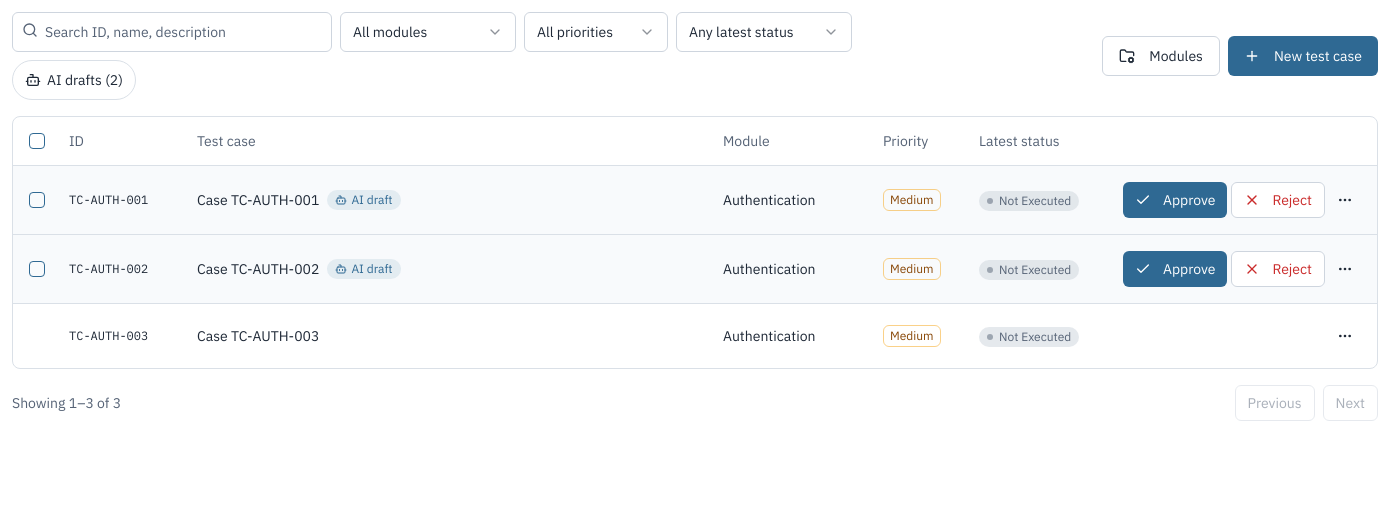
Scenario: CasesView — AI drafts › keeps the selection status region announcement-only, with no buttons inside it
This screenshot has width=1390, height=508.
Click the checkbox named "Select TC-AUTH-001".
click(37, 200)  # box [29,192,45,208]
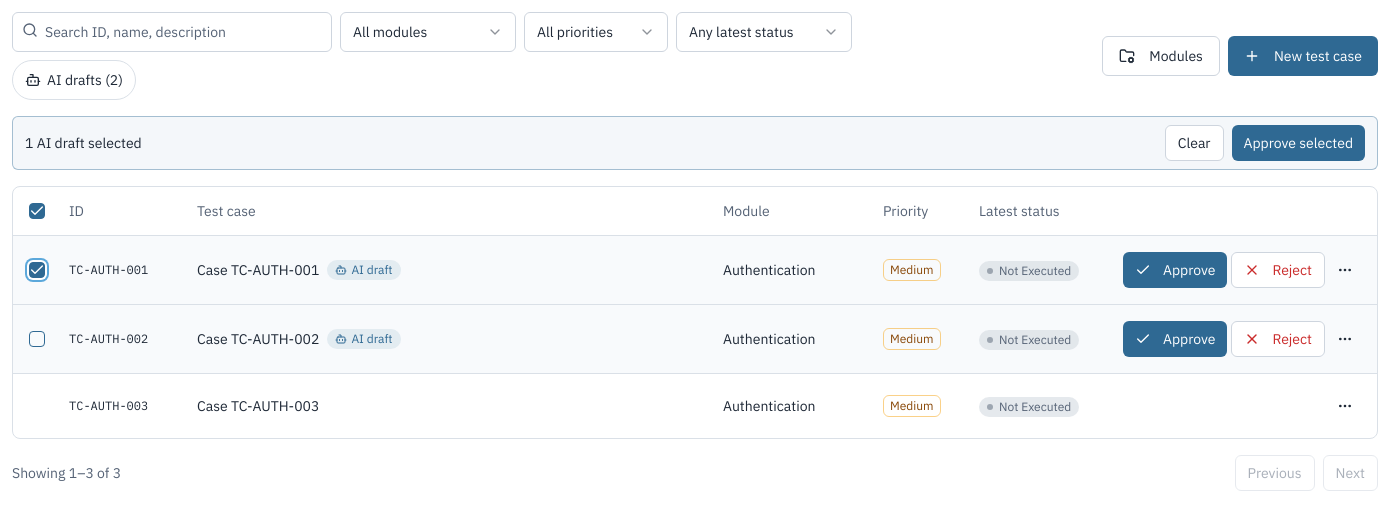
Check: the message reads "1 AI draft selected", box [25,133,142,153]
Check: the button "Clear" is shown, box [1165,125,1224,161]
Check: the button "Approve selected" is shown, box [1232,125,1365,161]
